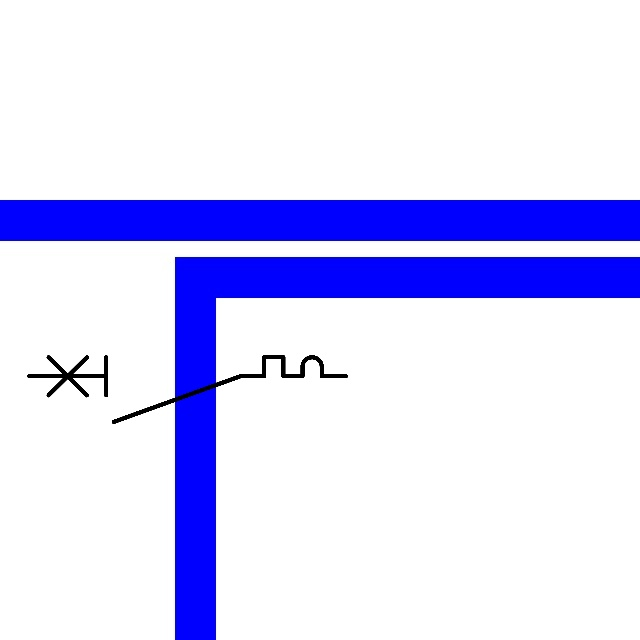interruptor_termomagnetico: (21, 349, 354, 430)
